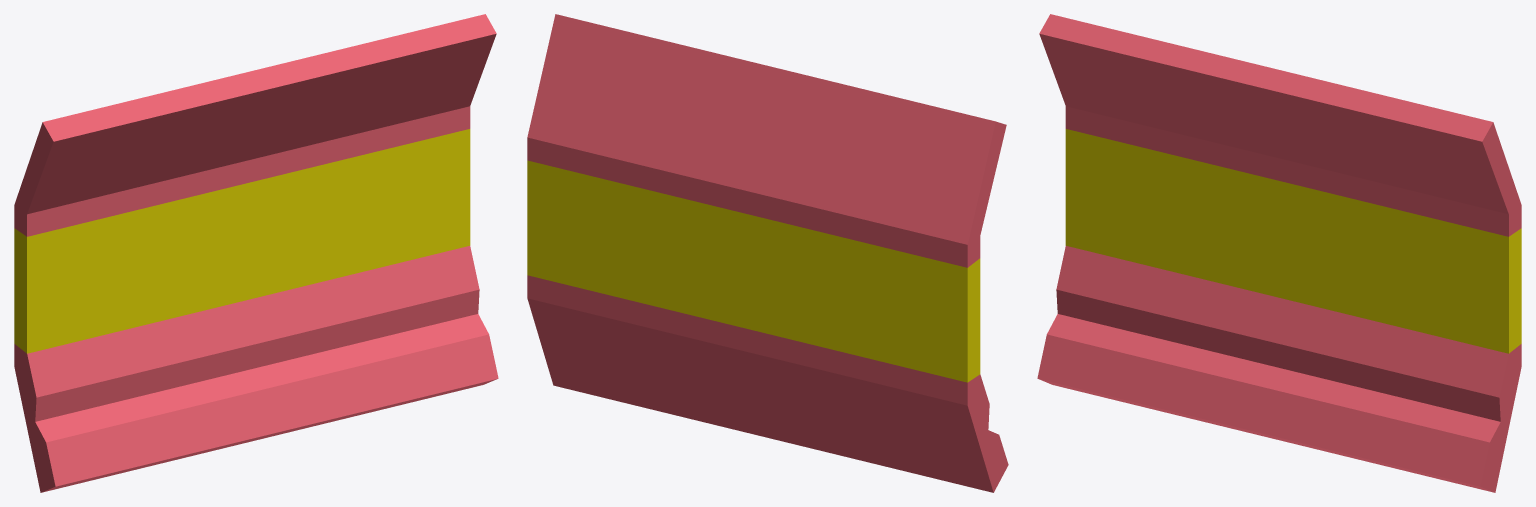
File: decoration-corridor-stripe.fbx
3 renders of one model, left to right at view 1: azimuth 30°, elevation 25°; view 2: azimuth 150°, elevation 25°; view 3: azimuth 330°, elevation 25°, orthographic.
Parts seen in each view (by area): view 1: decoration-corridor-stripe; view 2: decoration-corridor-stripe; view 3: decoration-corridor-stripe.
Boxes of the visible parts, box(x1,y1,x2,y2) form: decoration-corridor-stripe: box(14, 14, 498, 492); decoration-corridor-stripe: box(527, 14, 1008, 492); decoration-corridor-stripe: box(1037, 14, 1521, 492).
Size of the model in its own units: 4 by 3.21 by 0.6447.
